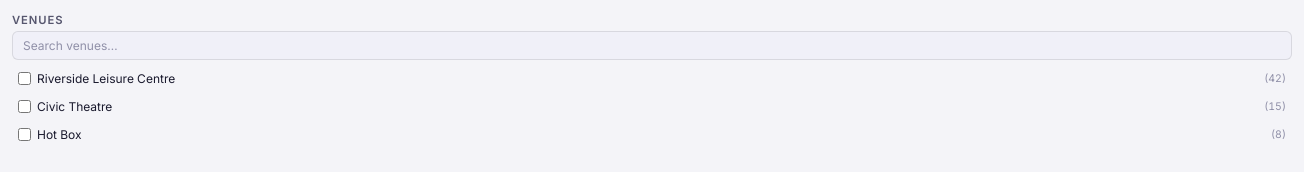
Scenario: ListFilter › filters items by search
This screenshot has width=1304, height=172.
In the search field: (652, 45) 12,31 -> 1292,60, type "civic"
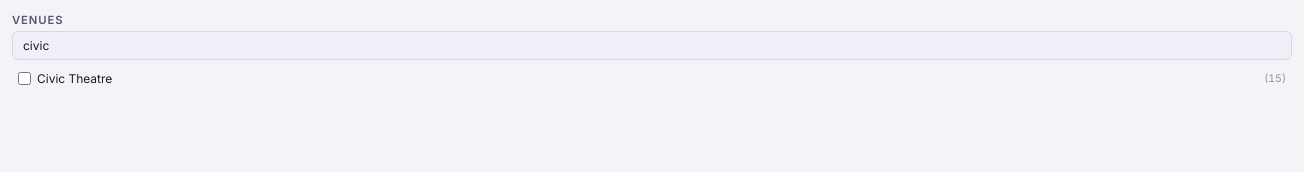
Expected: the text "Civic Theatre" is shown, 37,71 -> 112,86
Now the text "Riverside Leisure Centre" is gone
